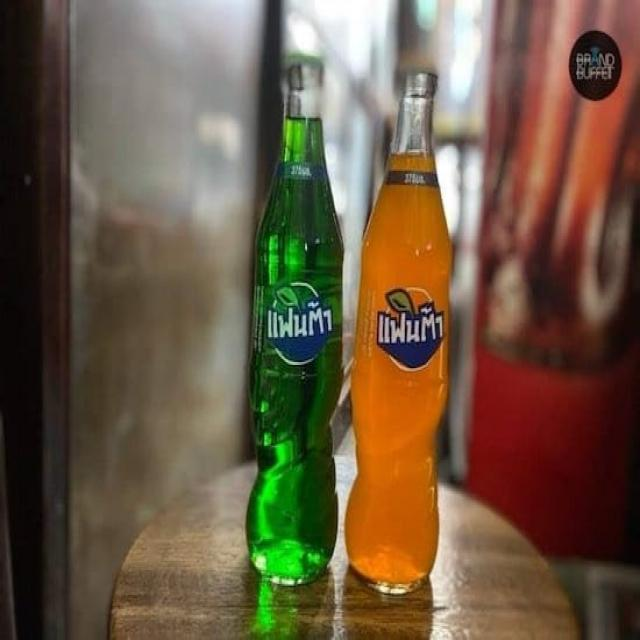glass-bottle: (255, 40, 450, 598)
